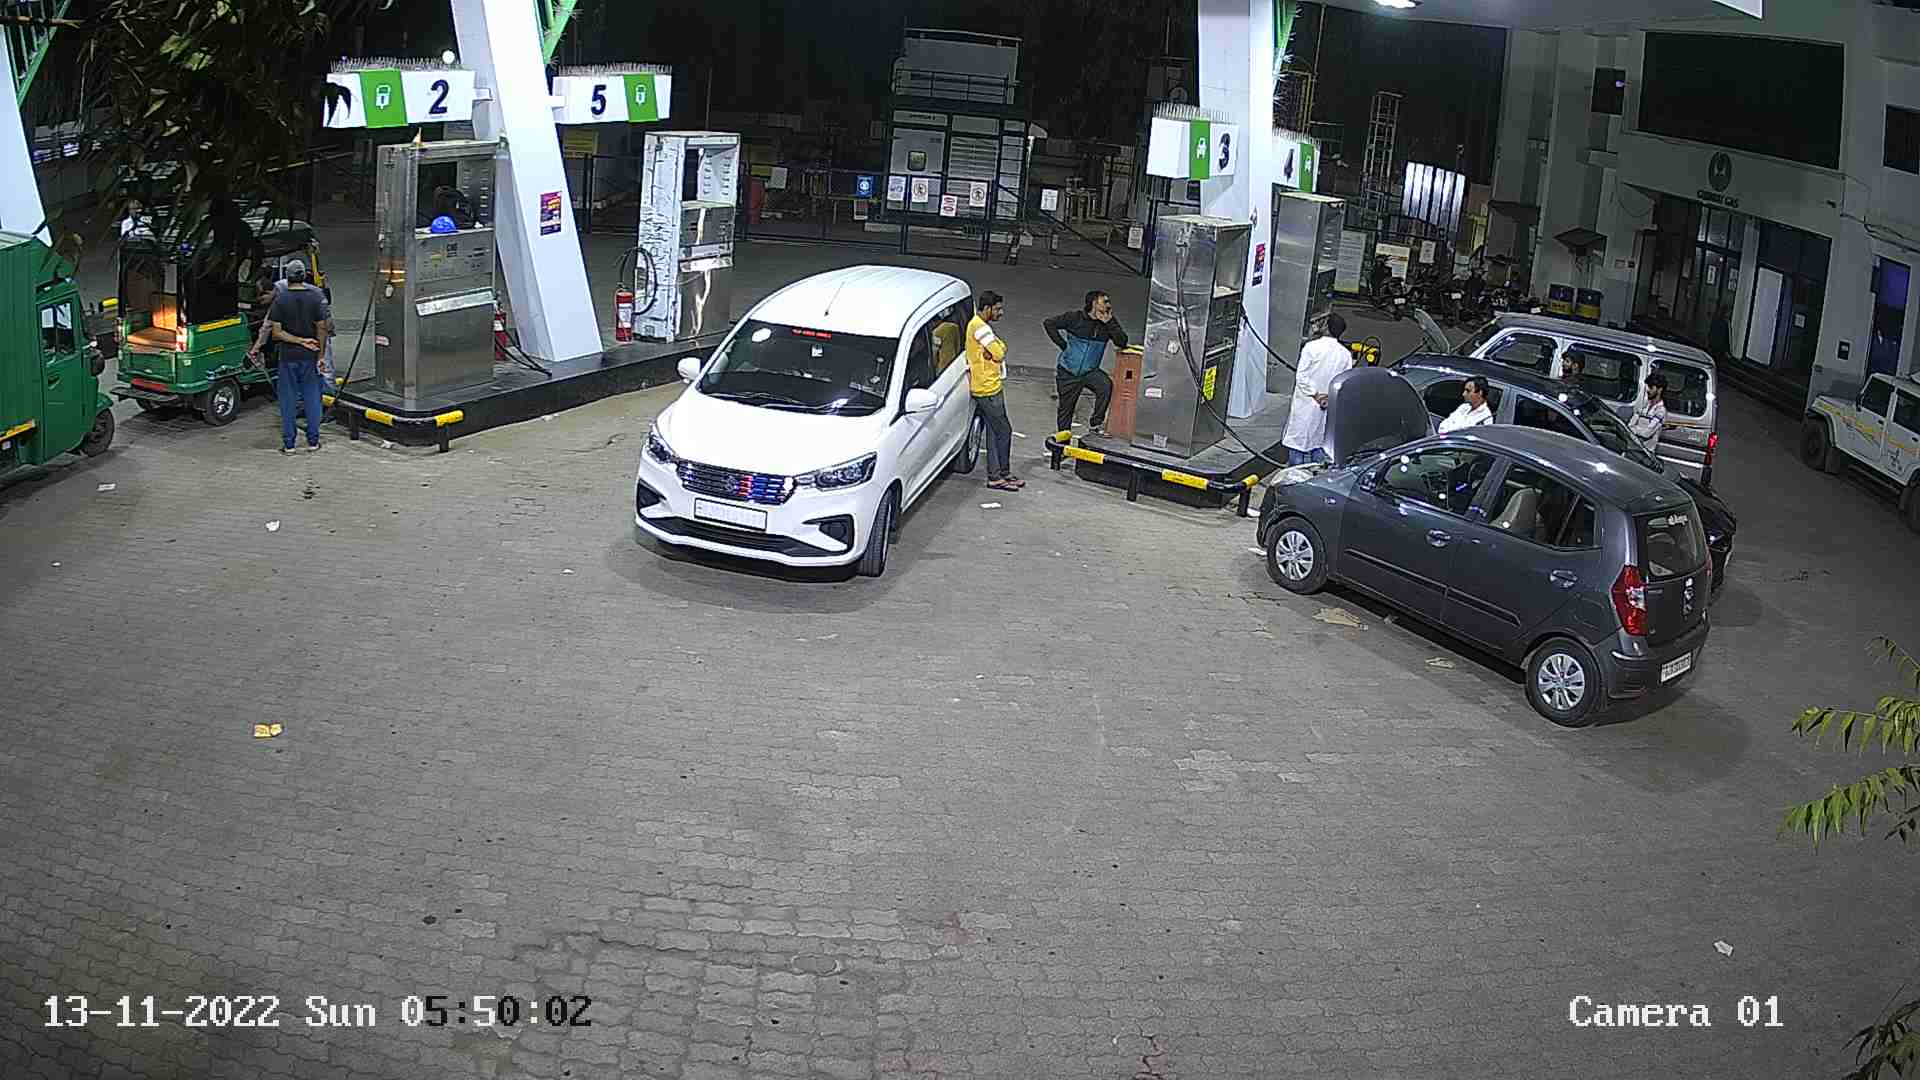Auto: (98, 187, 353, 436), (1, 179, 132, 524)
Bike: (1356, 236, 1423, 316), (1406, 260, 1470, 326), (1458, 247, 1516, 316), (1499, 253, 1552, 320)
Car: (1247, 351, 1724, 731), (620, 258, 1000, 587), (1375, 344, 1746, 615), (1403, 302, 1722, 498), (1789, 356, 1917, 537)
Others: (1040, 281, 1121, 440)
